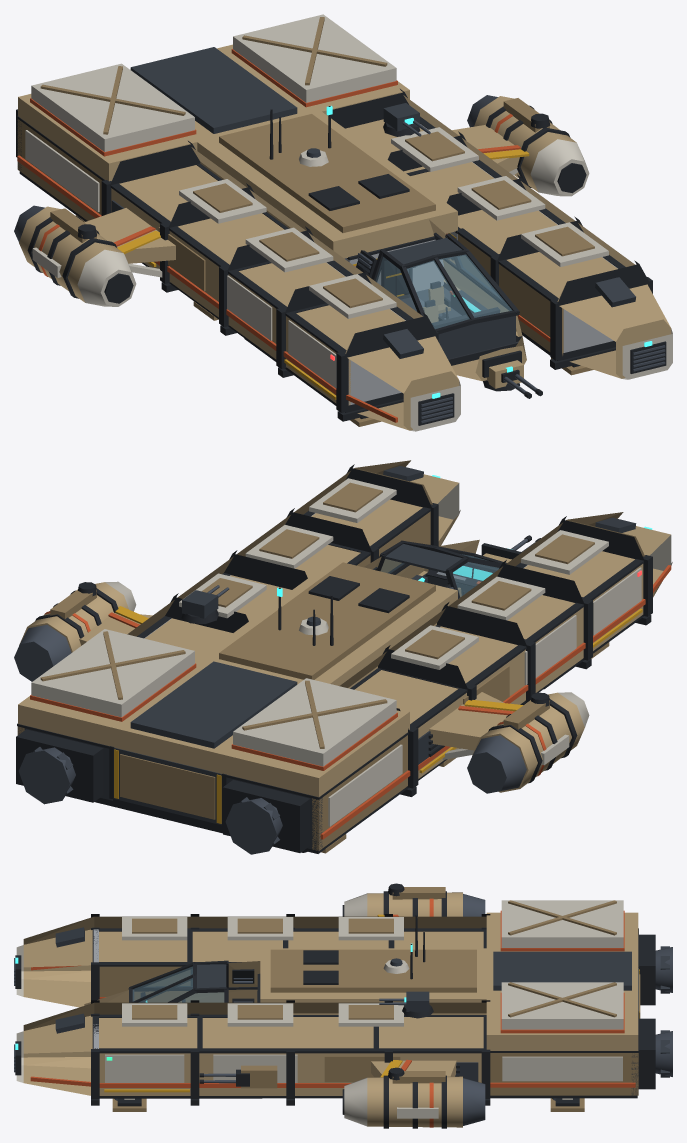
The model's file is ship.glb.
The picture shows the model from 3 angles, top to bottom: view 1: azimuth 30°, elevation 25°; view 2: azimuth 150°, elevation 25°; view 3: azimuth 270°, elevation 25°; orthographic projection. The views are drawn at different scales.
Parts seen in each view (by area): view 1: Hull_Roof_Shell, Hull_Lower_Chassis, Hull_Cockpit_Canopy, VTOL_Pod_Port, VTOL_Pod_Starboard, Wing_Pylon_Port, Wing_Pylon_Starboard, Turret_Chin_Autocannon, Wall_Cockpit_Rear, Turret_Dorsal_PointDefense, Bulkhead_Door_Cockpit; view 2: Hull_Roof_Shell, Hull_Lower_Chassis, VTOL_Pod_Port, Rear_Loading_Ramp, VTOL_Pod_Starboard, Main_Thruster_Starboard, Main_Thruster_Port, Hull_Cockpit_Canopy, Wing_Pylon_Port, Turret_Dorsal_PointDefense, Cockpit_Main_Console, Wing_Pylon_Starboard; view 3: Hull_Roof_Shell, Hull_Lower_Chassis, VTOL_Pod_Starboard, VTOL_Pod_Port, Hull_Cockpit_Canopy, Main_Thruster_Starboard, Main_Thruster_Port, Turret_Starboard_Blister, Wing_Pylon_Starboard, Turret_Dorsal_PointDefense, LandingGear_Rear_Stbd, LandingGear_Fwd_Stbd.
Boxes of the visible parts, left/top/right/bottom form: Hull_Roof_Shell: left=18, top=14, right=670, bottom=393; Hull_Lower_Chassis: left=17, top=115, right=672, bottom=431; Hull_Cockpit_Canopy: left=371, top=233, right=519, bottom=334; VTOL_Pod_Port: left=14, top=205, right=136, bottom=306; VTOL_Pod_Starboard: left=467, top=95, right=589, bottom=196; Wing_Pylon_Port: left=84, top=208, right=175, bottom=277; Wing_Pylon_Starboard: left=452, top=125, right=529, bottom=175; Turret_Chin_Autocannon: left=483, top=360, right=542, bottom=398; Wall_Cockpit_Rear: left=347, top=236, right=443, bottom=291; Turret_Dorsal_PointDefense: left=383, top=103, right=430, bottom=136; Bulkhead_Door_Cockpit: left=381, top=258, right=415, bottom=296; Hull_Roof_Shell: left=18, top=460, right=670, bottom=797; Hull_Lower_Chassis: left=17, top=483, right=672, bottom=853; VTOL_Pod_Port: left=467, top=692, right=589, bottom=793; Rear_Loading_Ramp: left=114, top=747, right=221, bottom=825; VTOL_Pod_Starboard: left=14, top=581, right=136, bottom=681; Main_Thruster_Starboard: left=16, top=729, right=103, bottom=804; Main_Thruster_Port: left=223, top=780, right=310, bottom=854; Hull_Cockpit_Canopy: left=377, top=540, right=506, bottom=598; Wing_Pylon_Port: left=429, top=692, right=523, bottom=759; Turret_Dorsal_PointDefense: left=181, top=585, right=229, bottom=623; Cockpit_Main_Console: left=425, top=562, right=498, bottom=595; Wing_Pylon_Starboard: left=79, top=606, right=152, bottom=645; Hull_Roof_Shell: left=23, top=900, right=638, bottom=1053; Hull_Lower_Chassis: left=14, top=927, right=639, bottom=1105; VTOL_Pod_Starboard: left=342, top=1067, right=485, bottom=1128; VTOL_Pod_Port: left=342, top=883, right=485, bottom=916; Hull_Cockpit_Canopy: left=128, top=960, right=228, bottom=1002; Main_Thruster_Starboard: left=638, top=1018, right=672, bottom=1089; Main_Thruster_Port: left=639, top=934, right=672, bottom=1005; Turret_Starboard_Blister: left=199, top=1065, right=277, bottom=1088; Wing_Pylon_Starboard: left=371, top=1059, right=456, bottom=1077; Turret_Dorsal_PointDefense: left=379, top=991, right=433, bottom=1018; LandingGear_Rear_Stbd: left=550, top=1098, right=584, bottom=1111; LandingGear_Fwd_Stbd: left=112, top=1098, right=146, bottom=1111.
Bounding box in the file's own units: 19.54 × 5.87 × 26.18.
